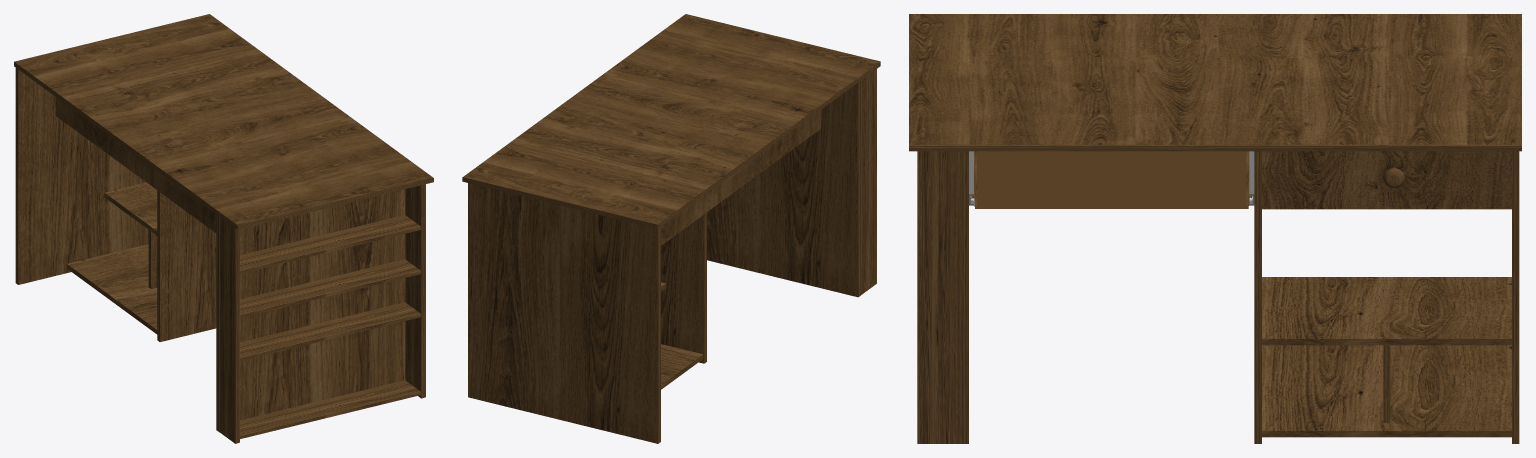
File: Desk.glb
3 renders of one model, left to right at view 1: azimuth 30°, elevation 25°; view 2: azimuth 150°, elevation 25°; view 3: azimuth 270°, elevation 25°, orthographic. The views are drawn at different scales.
Visible parts, largest first — view 1: Cube.001, Cubo.005, Cubo.001, Cubo, Cubo.007, Cubo.003, Cubo.006, Cubo.009, Cubo.008, Cubo.011, Cubo.010, Cubo.012 (+2 smaller); view 2: Cube.001, Cubo.001, Cubo.005, Cubo, Cubo.007, Cubo.012, Cubo.003; view 3: Cube.001, Cubo.003, Cubo.002, Cubo.018, Cube, Cubo.006, Cubo, Cubo.001, Cubo.005, Cubo.004.
Part boxes in pixels (box(x1,y1,x2,y2)): Cube.001: box(14, 14, 433, 229); Cubo.005: box(216, 189, 405, 431); Cubo.001: box(15, 68, 148, 284); Cubo: box(157, 190, 216, 341); Cubo.007: box(219, 217, 239, 443); Cubo.003: box(67, 244, 157, 334); Cubo.006: box(405, 184, 425, 398); Cubo.009: box(240, 302, 420, 361); Cubo.008: box(240, 380, 420, 438); Cubo.011: box(240, 215, 420, 273); Cubo.010: box(240, 259, 420, 317); Cubo.012: box(55, 97, 216, 232); Cube.001: box(462, 14, 880, 229); Cubo.001: box(468, 183, 660, 443); Cubo.005: box(707, 81, 860, 297); Cubo: box(661, 212, 706, 363); Cubo.007: box(861, 69, 876, 294); Cubo.012: box(661, 110, 820, 245); Cubo.003: box(661, 344, 703, 389); Cube.001: box(909, 14, 1521, 151); Cubo.003: box(1262, 345, 1511, 437); Cubo.002: box(1262, 277, 1511, 345); Cubo.018: box(971, 151, 1251, 208); Cube: box(1262, 151, 1511, 209); Cubo.006: box(917, 151, 961, 443); Cubo: box(1254, 151, 1261, 443); Cubo.001: box(1512, 151, 1519, 443); Cubo.005: box(961, 151, 968, 443); Cubo.004: box(1383, 345, 1390, 422).
Bounding box in the file's own units: 7.91 × 8.1 × 14.86.
Materials: 2 (1 with a texture image).
